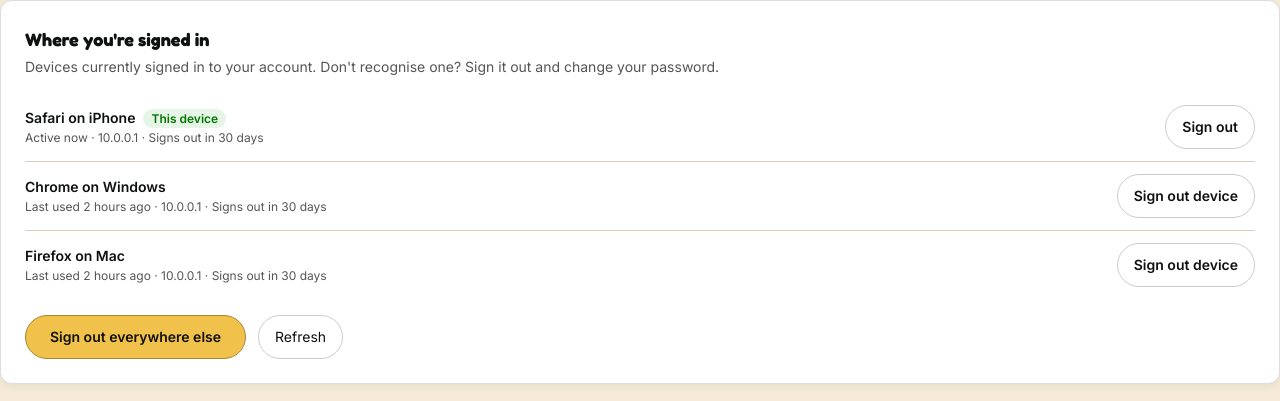
Test: SignedInDevices › leaves exactly this device standing after 'sign out everywhere else'
Click the button "Sign out everywhere else": point(136, 337) [25,315,246,359]
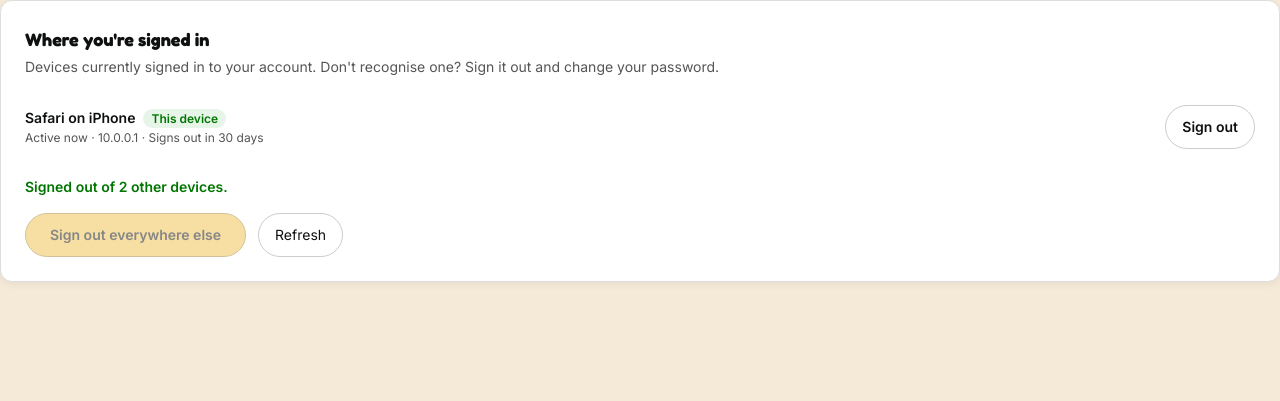
Expected: the text "Safari on iPhone" is shown, [25,109,136,126]
Expected: the text "Signed out of 2 other devices." is shown, [25,178,228,195]
Expected: the text "Firefox on Mac" is gone
